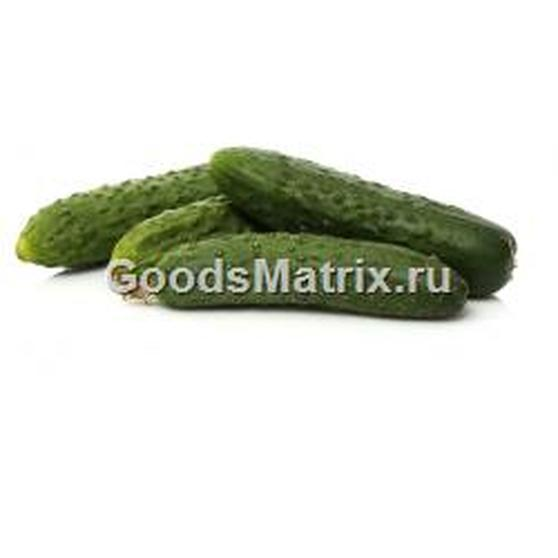cucumber: (208, 139, 526, 305), (18, 153, 221, 265)
